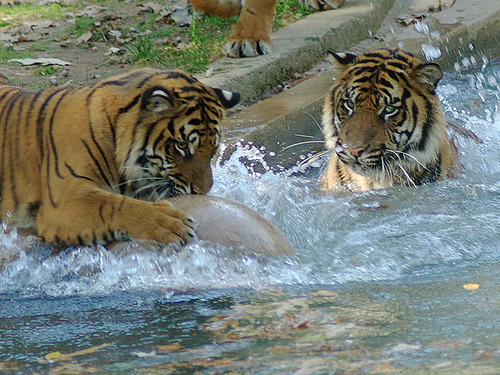Tigre: (2, 58, 247, 262), (318, 50, 468, 222)
